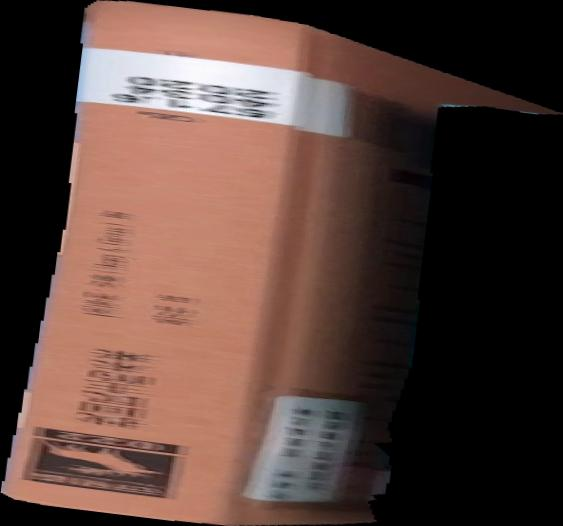reverse: (1, 1, 563, 526)
